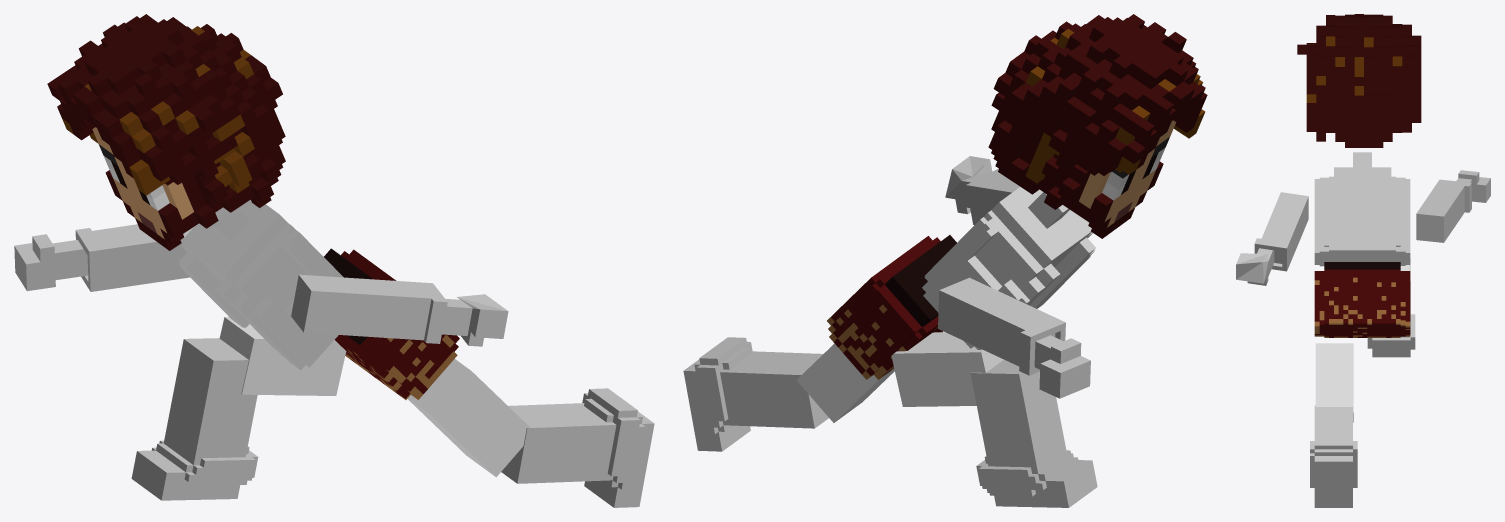
The model's file is POS7.fbx.
3 renders of one model, left to right at view 1: azimuth 30°, elevation 25°; view 2: azimuth 150°, elevation 25°; view 3: azimuth 270°, elevation 25°, orthographic. The views are drawn at different scales.
Parts seen in each view (by area): view 1: POS7; view 2: POS7; view 3: POS7.
Part boxes in pixels (<box>): POS7: <box>14,14,654,507</box>; POS7: <box>683,14,1207,507</box>; POS7: <box>1236,14,1490,507</box>.
Bounding box in the file's own units: 175 × 174 × 113.
